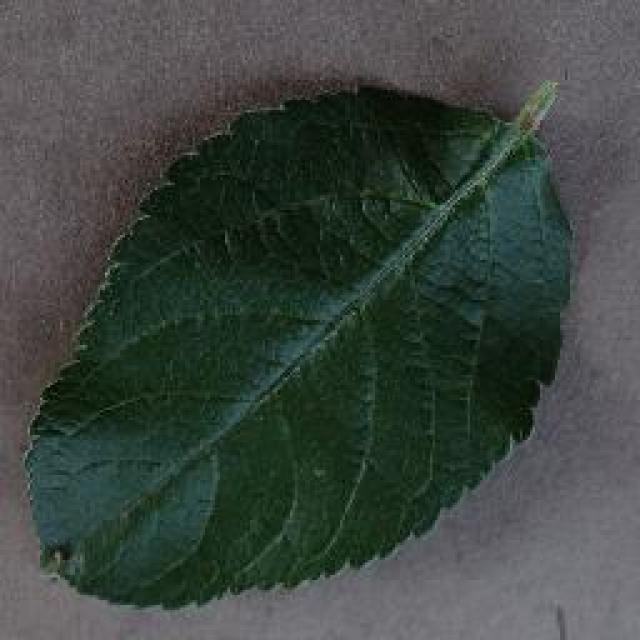apple scab disease: (20, 72, 575, 610)
